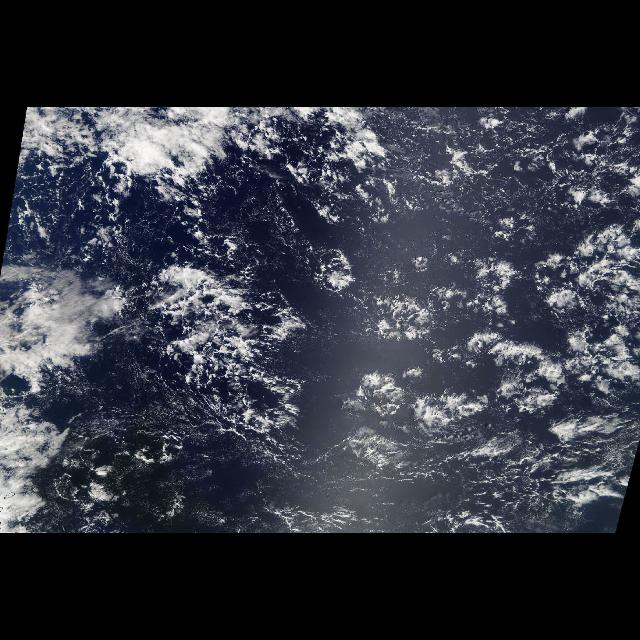Gravel: (348, 107, 640, 425), (50, 251, 328, 533), (353, 428, 637, 532)
Sugar: (91, 412, 599, 534), (208, 184, 336, 286)
